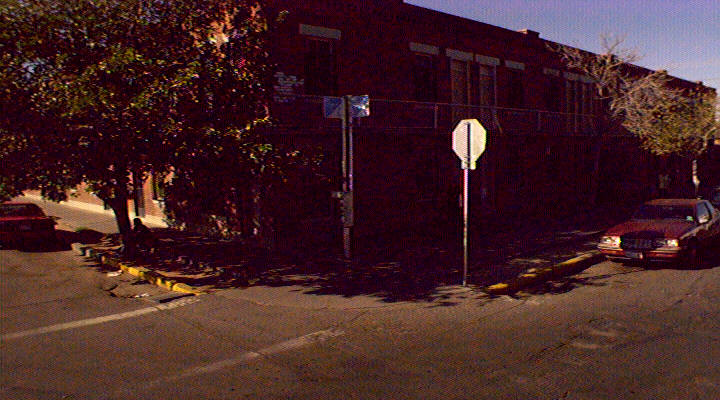Ramp: (187, 249, 517, 318)
